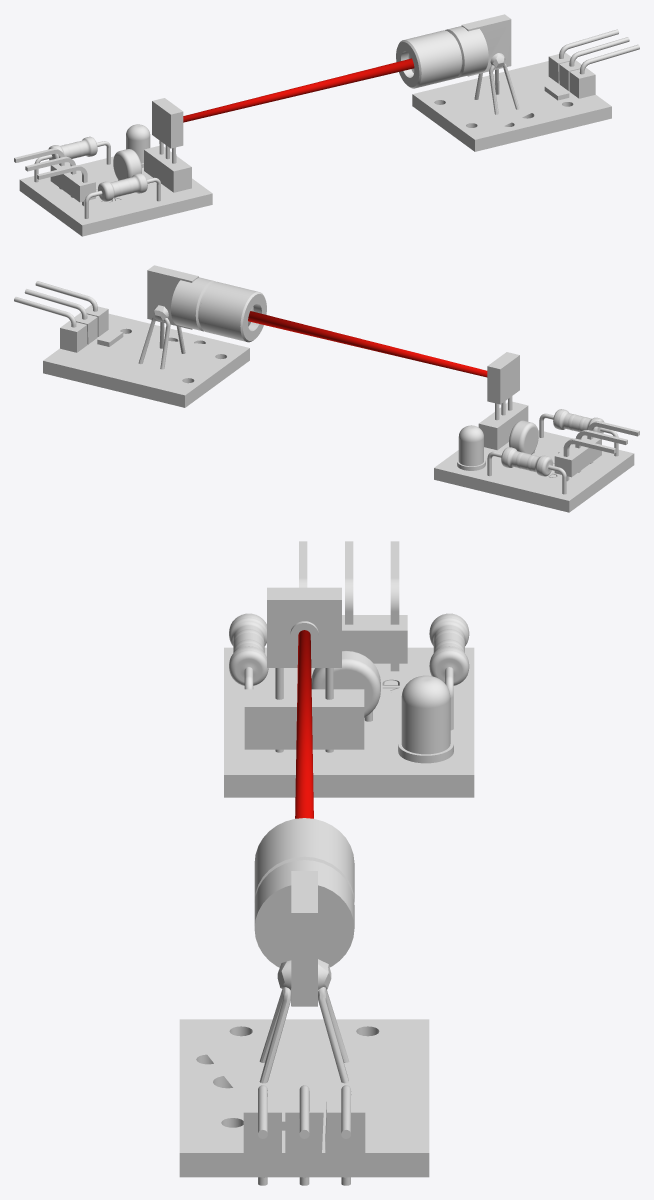
File: laser module.fbx
3 views of the same model, one above another, from view 1: azimuth 30°, elevation 25°; view 2: azimuth 150°, elevation 25°; view 3: azimuth 270°, elevation 25° (orthographic). The views are drawn at different scales.
Visible parts, largest first — view 1: laser module.001, LASER RECEVER, laser module.002; view 2: laser module.001, LASER RECEVER, laser module.002; view 3: laser module.001, LASER RECEVER, laser module.002.
Part boxes in pixels (x1=…): laser module.001: x1=396, y1=14, x2=639, y2=151; LASER RECEVER: x1=14, y1=98, x2=212, y2=236; laser module.002: x1=183, y1=58, x2=414, y2=122; laser module.001: x1=14, y1=265, x2=266, y2=407; LASER RECEVER: x1=434, y1=352, x2=639, y2=512; laser module.002: x1=248, y1=311, x2=487, y2=377; laser module.001: x1=179, y1=818, x2=429, y2=1185; LASER RECEVER: x1=224, y1=541, x2=474, y2=797; laser module.002: x1=295, y1=630, x2=313, y2=818.
Bounding box in the file's own units: 8.19 × 1.38 × 1.77.
